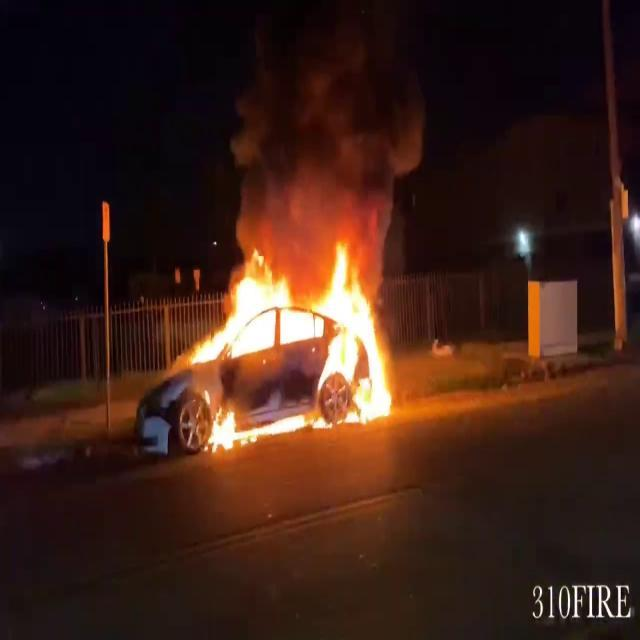Fire: (187, 227, 404, 446)
Smoke: (220, 2, 432, 254)
